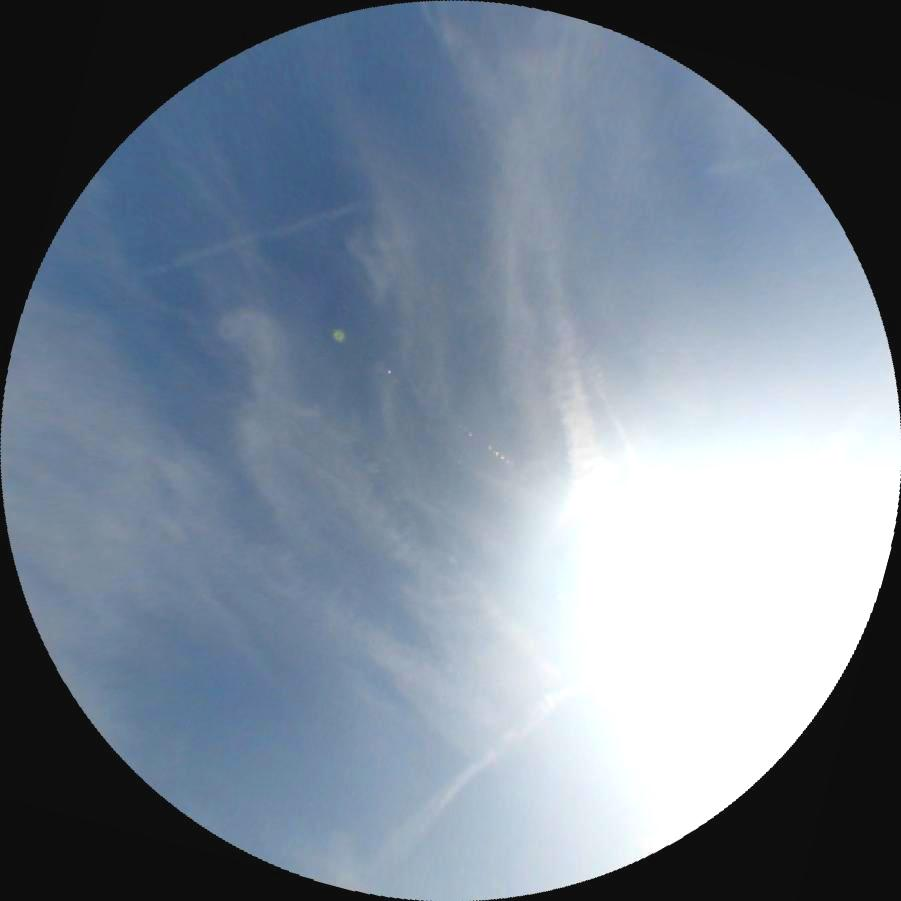contrail veryold: (363, 418, 864, 882), (150, 289, 572, 756), (232, 523, 508, 761), (514, 256, 632, 578), (570, 336, 679, 534), (136, 198, 363, 279)
sun: (548, 472, 889, 826)
